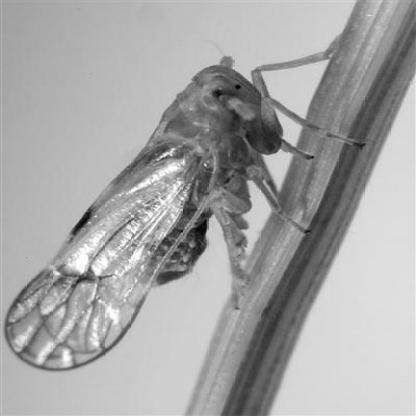brown-planthopper: (6, 45, 322, 372)
